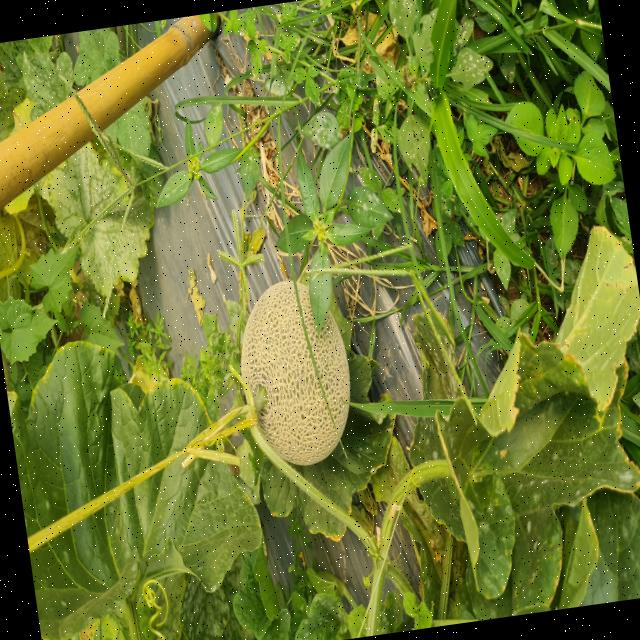melon: (240, 279, 351, 465)
